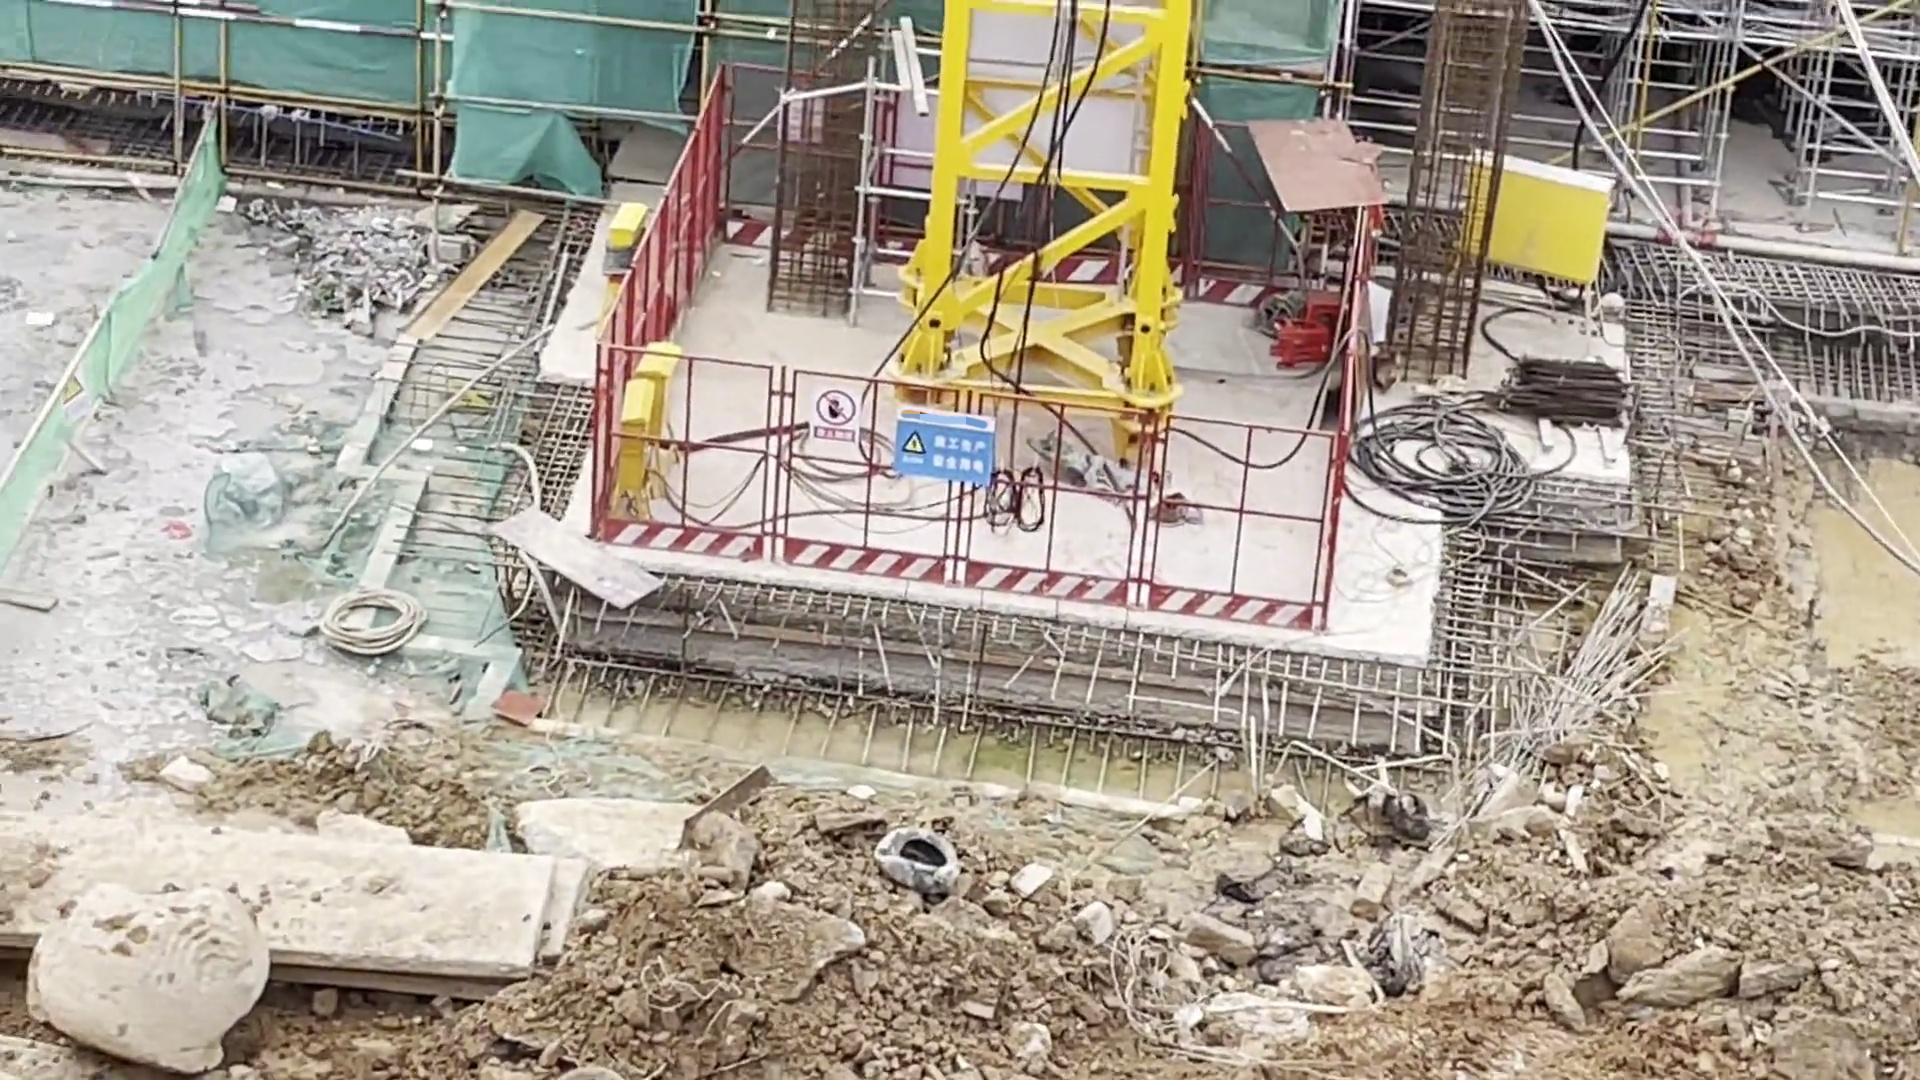ebox: (1466, 152, 1611, 297), (615, 345, 671, 502), (607, 208, 644, 295)
fence: (604, 360, 951, 584), (968, 400, 1316, 618), (593, 82, 729, 506)
slogan: (898, 414, 992, 479), (808, 392, 857, 450), (59, 372, 88, 419)
